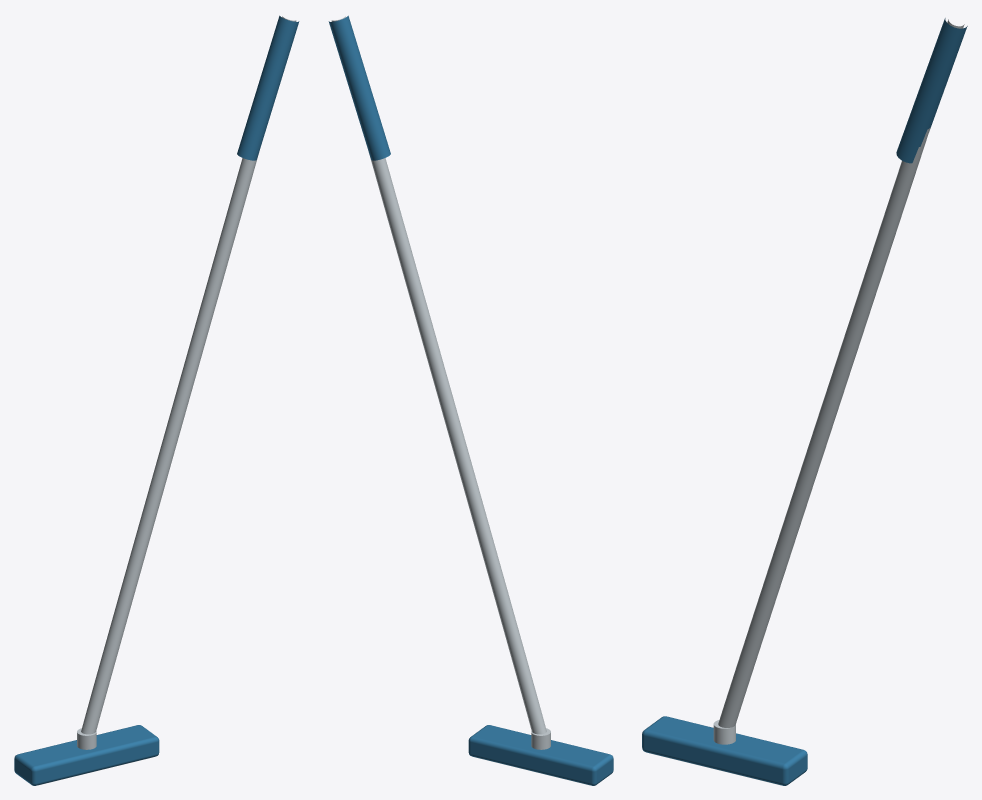
Rendered from curling-club-and-ice-maintenance-curling-broom-fa1cfb6e__31269.glb.
The picture shows the model from 3 angles, left to right: view 1: azimuth 30°, elevation 25°; view 2: azimuth 150°, elevation 25°; view 3: azimuth 330°, elevation 25°; orthographic projection. The views are drawn at different scales.
Parts seen in each view (by area): view 1: curling-broom; view 2: curling-broom; view 3: curling-broom.
Boxes of the visible parts, box(x1,y1,x2,y2) form: curling-broom: box(14, 15, 299, 785); curling-broom: box(328, 15, 613, 785); curling-broom: box(642, 18, 967, 785).
Size of the model in its own units: 0.5161 by 1.26 by 0.065.
